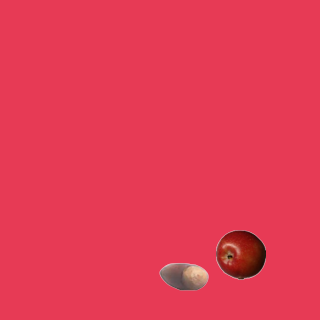Apple Braeburn: (215, 229, 265, 279)
Hazelnut: (158, 251, 208, 301)
